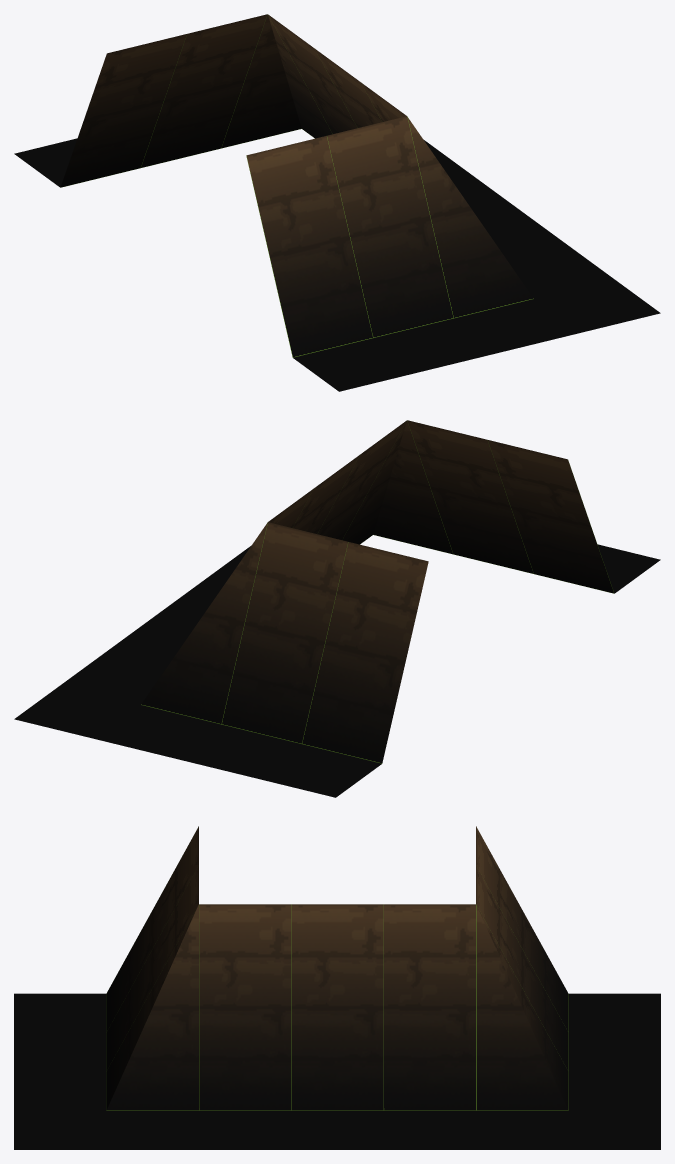
The model's file is wallBottom_cornerOutDouble.FBX.
3 renders of one model, top to bottom at view 1: azimuth 30°, elevation 25°; view 2: azimuth 150°, elevation 25°; view 3: azimuth 270°, elevation 25°, orthographic.
Parts seen in each view (by area): view 1: wallBottom_cornerOutDouble; view 2: wallBottom_cornerOutDouble; view 3: wallBottom_cornerOutDouble.
Boxes of the visible parts, x1,y1,x2,y2 form: wallBottom_cornerOutDouble: (14, 14, 660, 391); wallBottom_cornerOutDouble: (14, 420, 660, 797); wallBottom_cornerOutDouble: (14, 826, 660, 1149).
Size of the model in its own units: 8 by 4 by 14.
